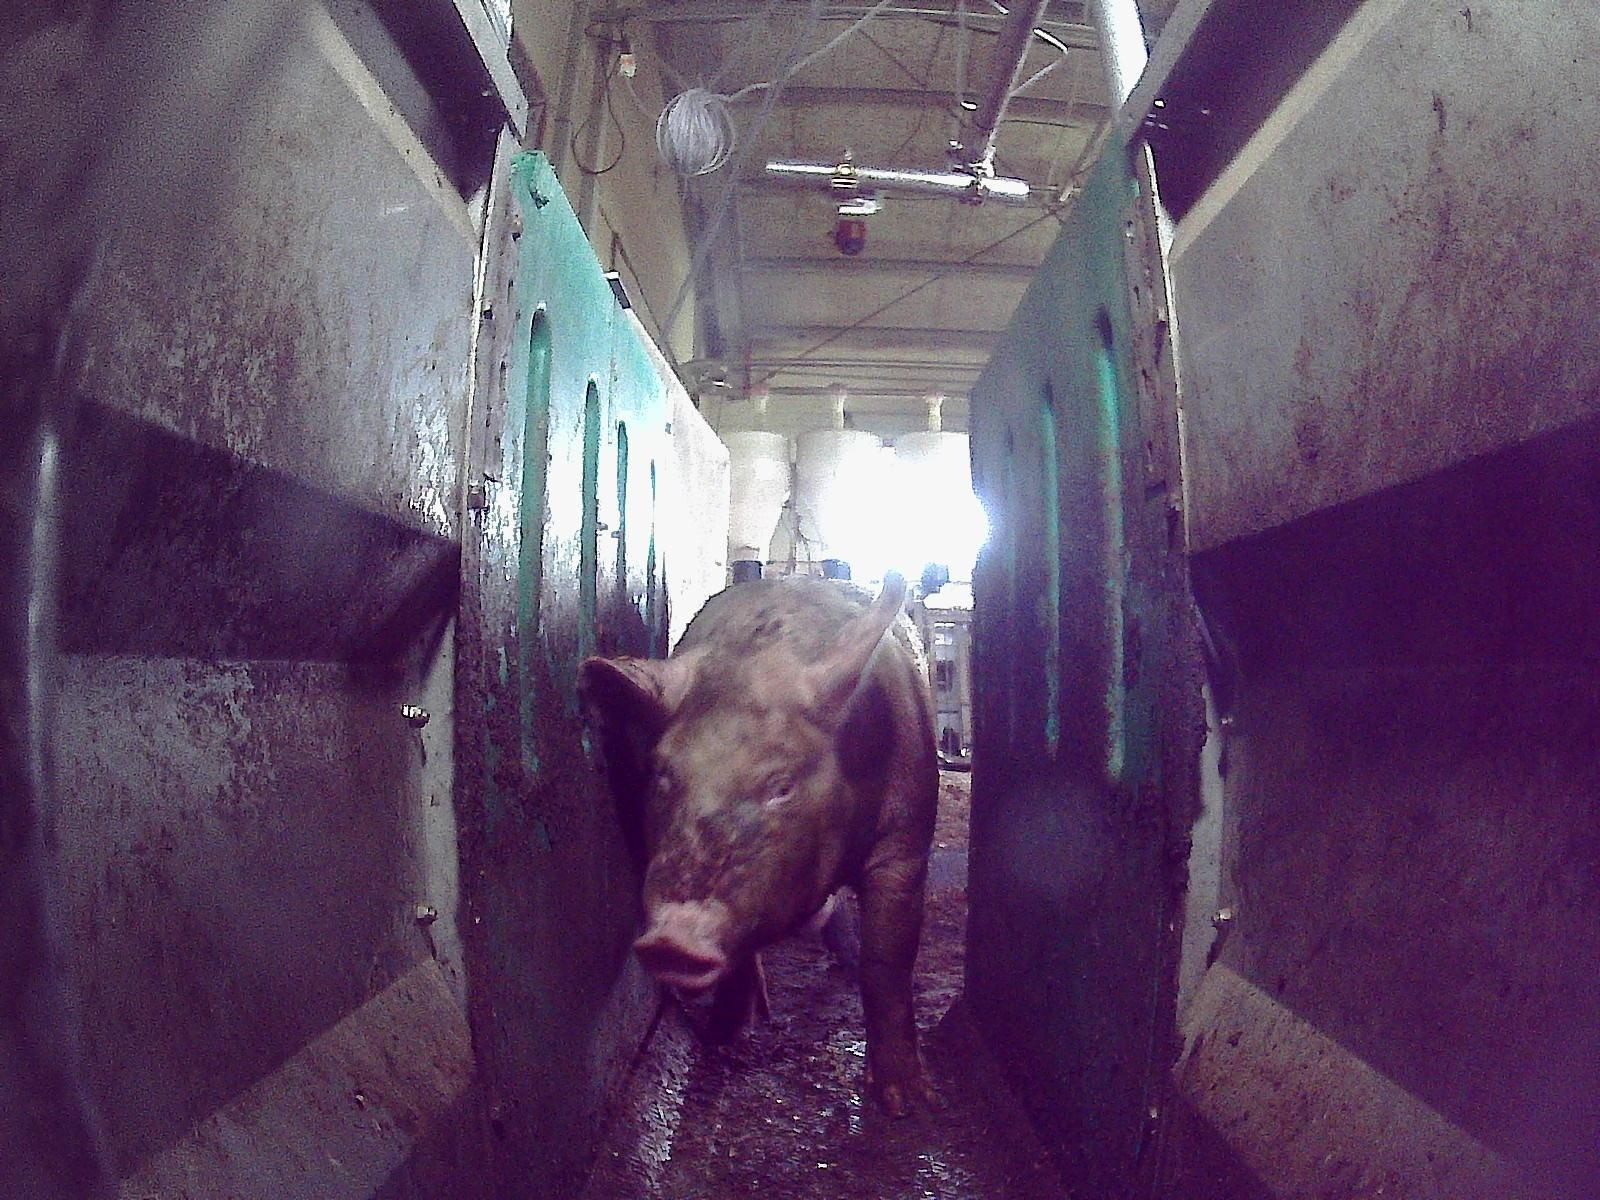Face: (633, 650, 852, 991)
